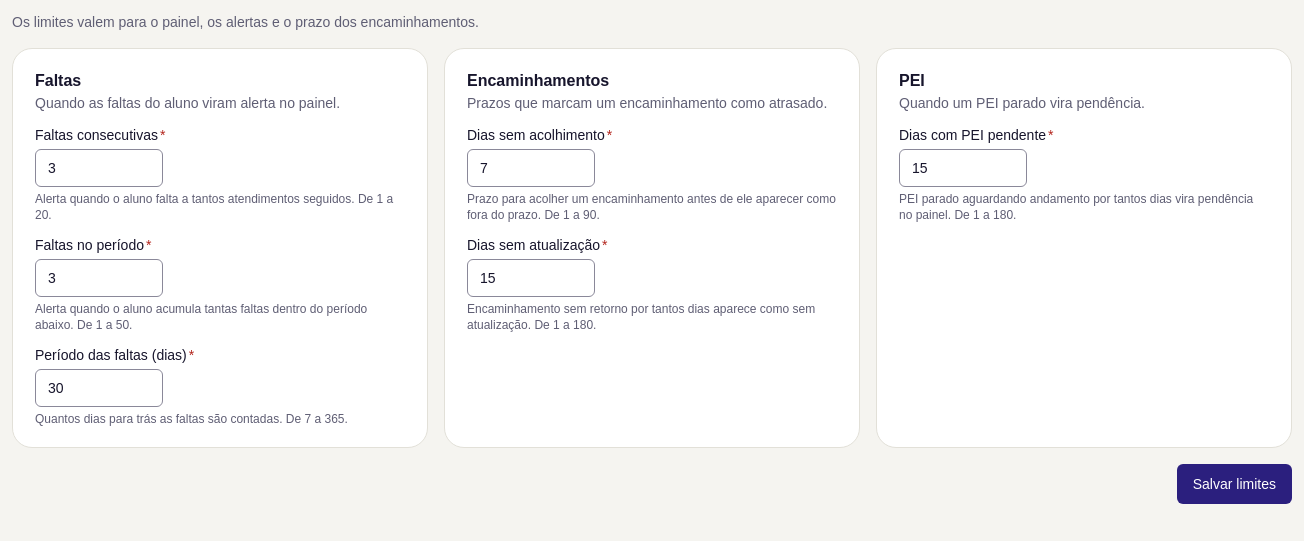
AlertasTab › Alertas_fora_da_faixa_mostram_erro_no_campo
This screenshot has width=1304, height=541.
Replace the text in the number field labelled "Faltas consecutivas*" with "25" at (99, 168), box [35,149,163,187]
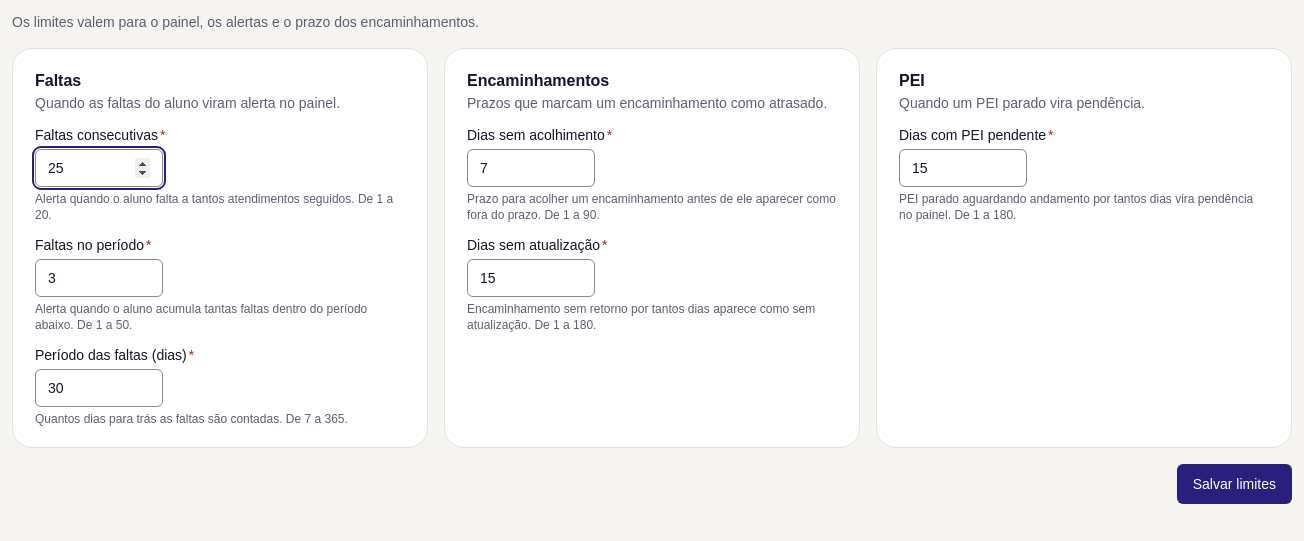
Click the button "Salvar limites" at (1234, 484), box [1177,464,1292,504]
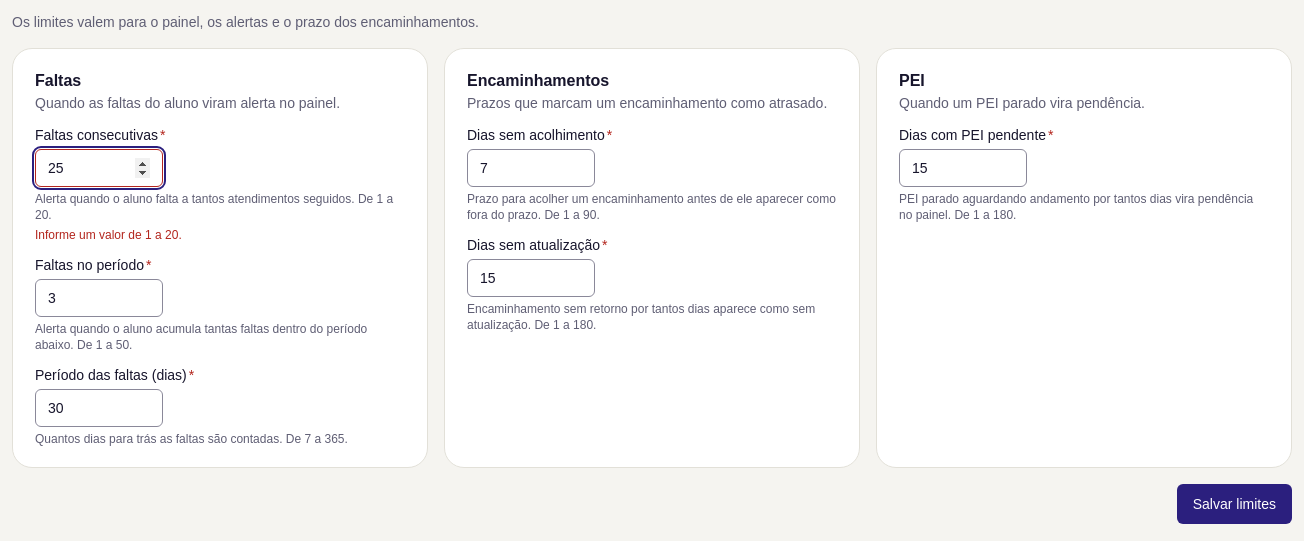
expect the text "Informe um valor de 1 a 20." is shown: met, box [35,228,182,242]
